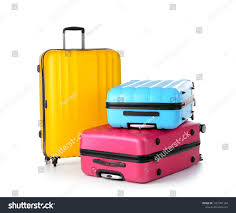suitcase: (38, 24, 123, 168), (79, 120, 208, 186), (104, 77, 197, 133)
